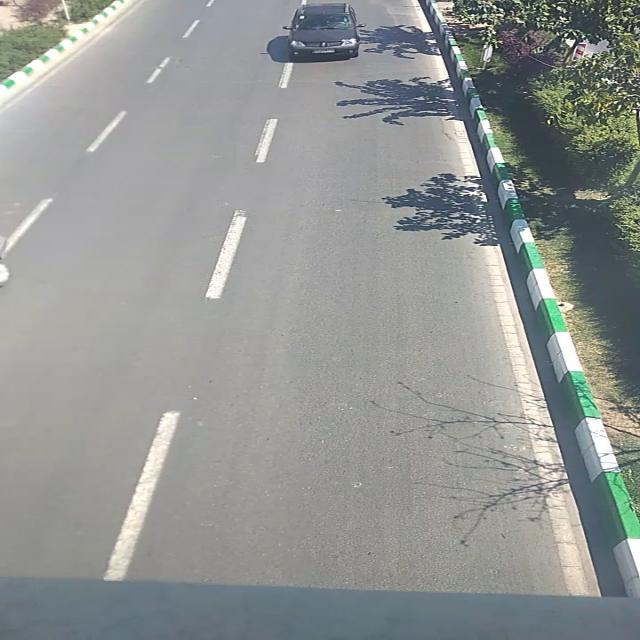car: (282, 4, 362, 63)
